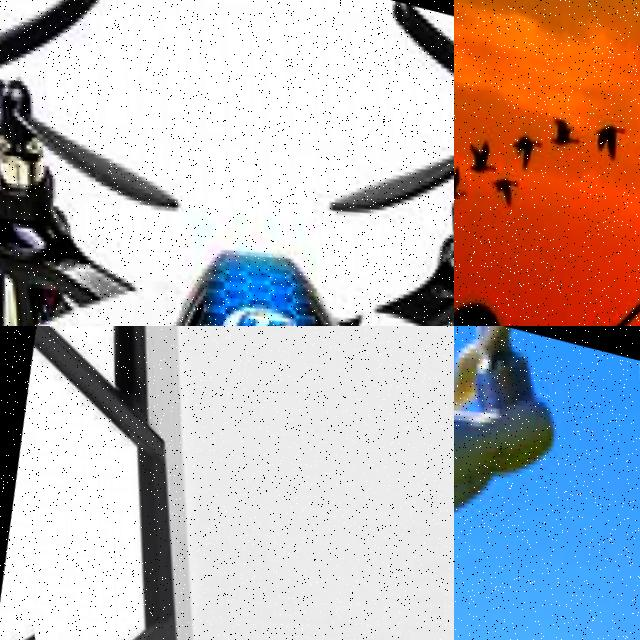0: (454, 326, 640, 640)
drone: (0, 0, 454, 326), (0, 326, 454, 640)
